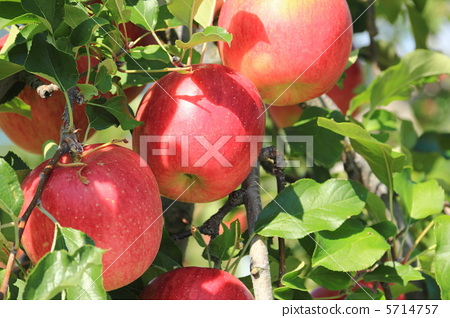apple: (133, 63, 264, 203), (217, 1, 350, 105)
obscured(1)_apple: (19, 141, 162, 292)
